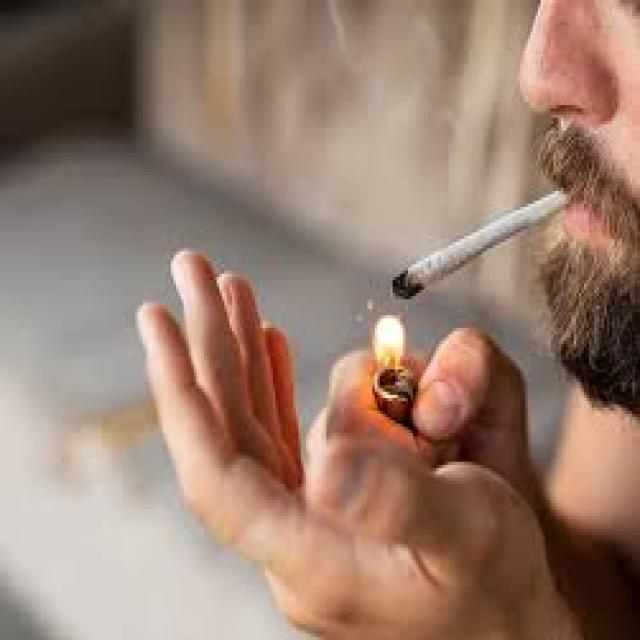fire: (357, 303, 405, 366)
